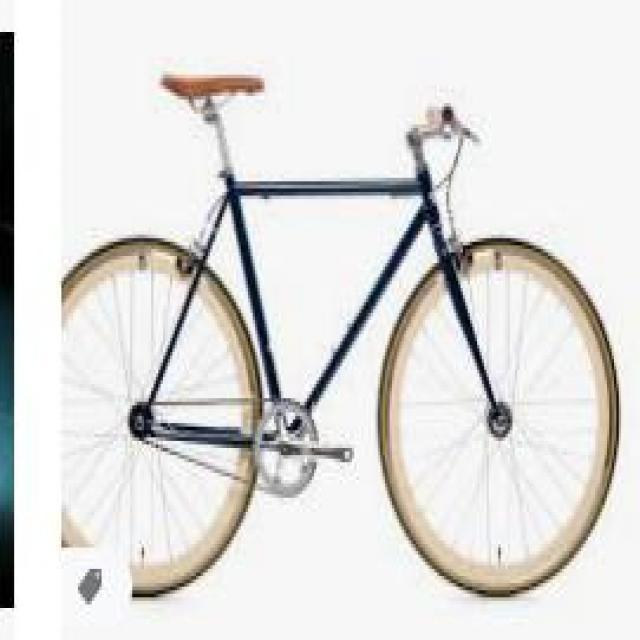bicycle: (65, 79, 629, 601)
